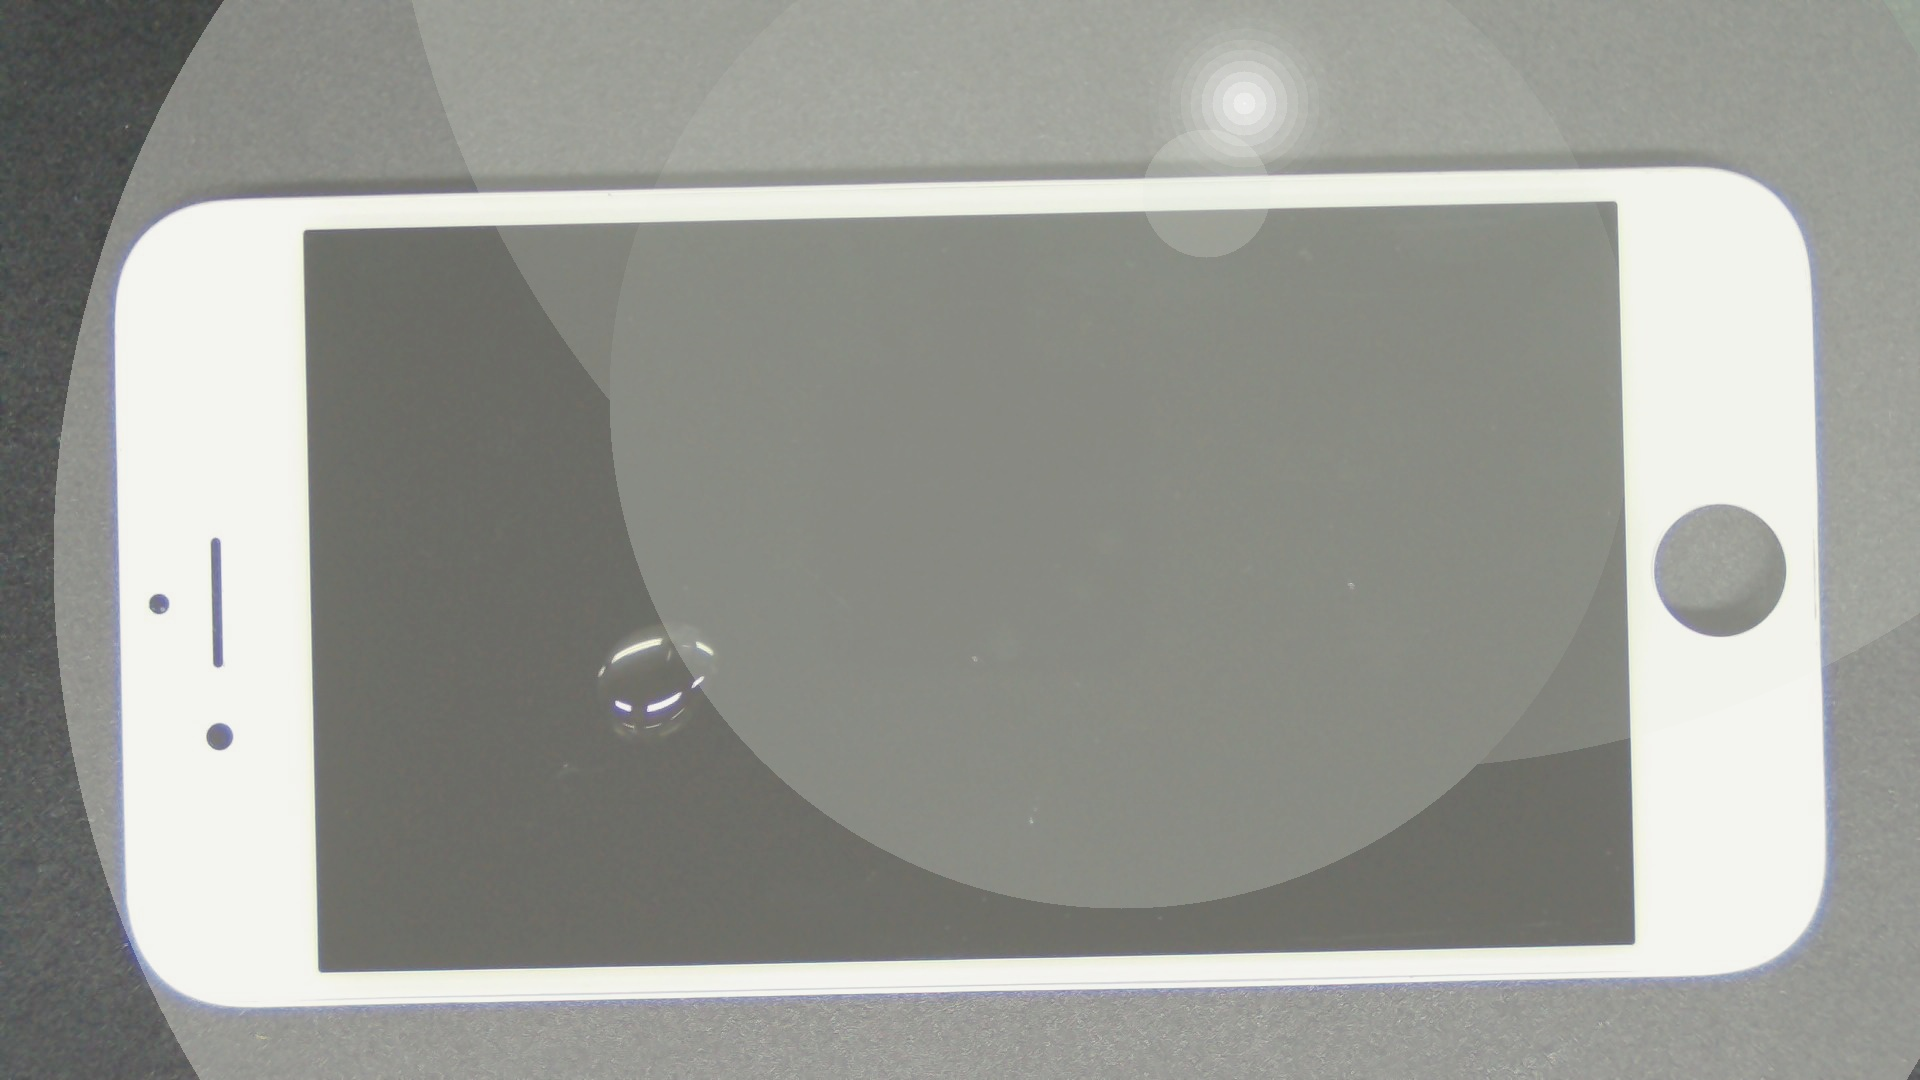oil: (331, 311, 993, 935)
